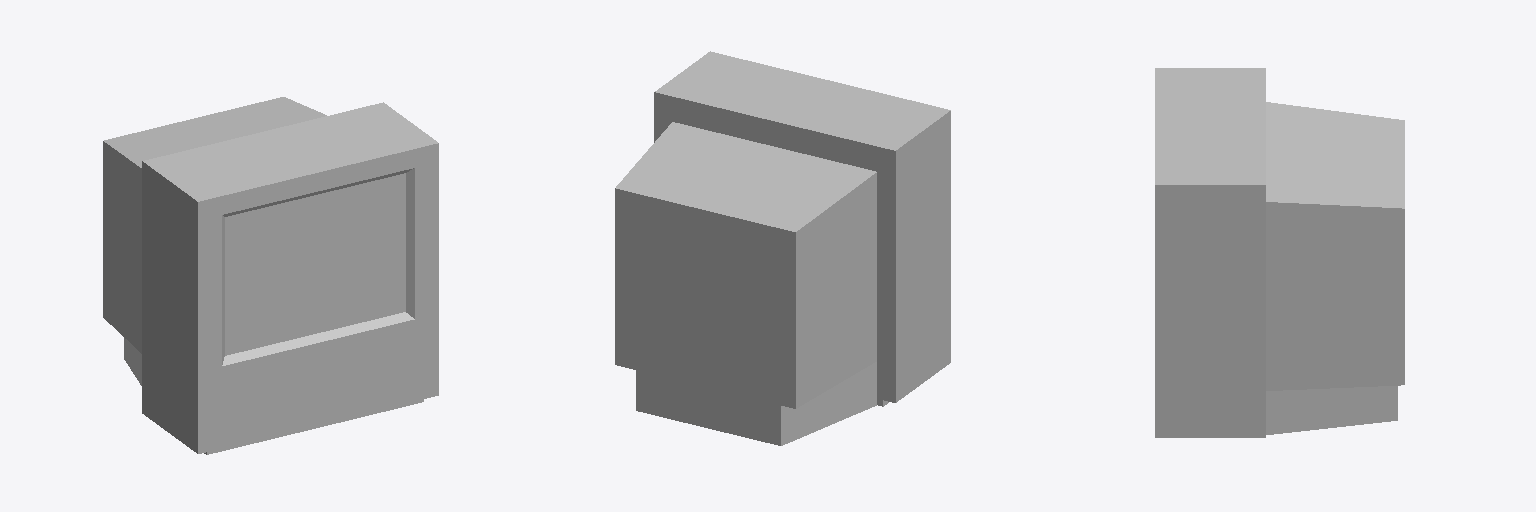
Rendered from crt.obj.
3 views of the same model, side by side, from view 1: azimuth 30°, elevation 25°; view 2: azimuth 150°, elevation 25°; view 3: azimuth 270°, elevation 25° (orthographic).
Parts seen in each view (by area): view 1: Cube.001; view 2: Cube.001; view 3: Cube.001.
Boxes of the visible parts, box(x1,y1,x2,y2) form: Cube.001: box(103, 97, 438, 454); Cube.001: box(615, 51, 950, 445); Cube.001: box(1155, 68, 1404, 437).
Bounding box in the file's own units: 0.96 × 0.984 × 0.864.